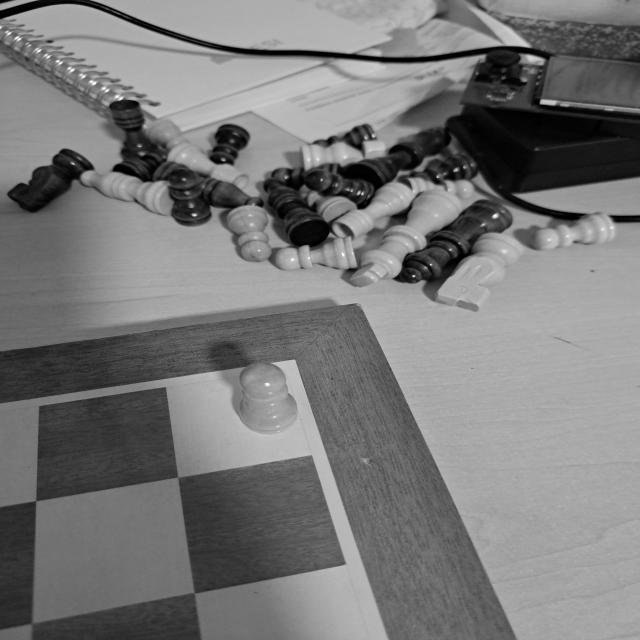chess-table-corners: (283, 352, 307, 367)
